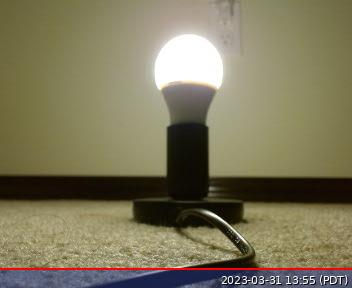TubeLight: (151, 31, 227, 111)
